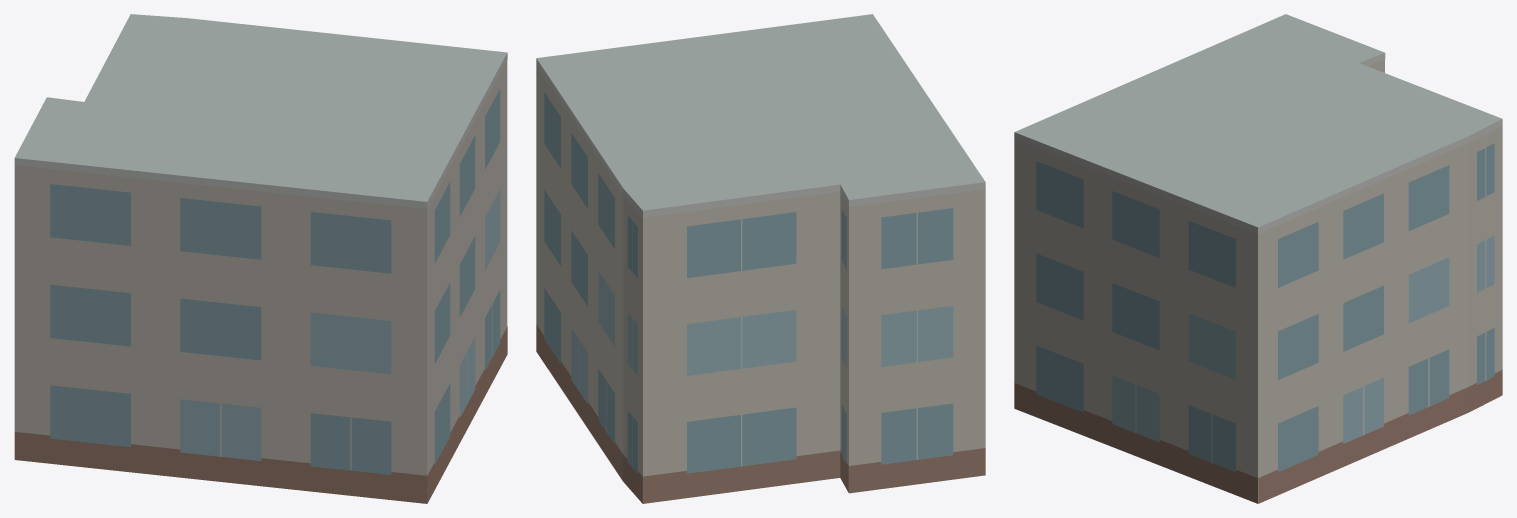
File: survey-upis-32862279.glb
The picture shows the model from 3 angles, left to right: view 1: azimuth 30°, elevation 25°; view 2: azimuth 150°, elevation 25°; view 3: azimuth 270°, elevation 25°; orthographic projection. The views are drawn at different scales.
Parts seen in each view (by area): view 1: survey-upis-32862279.tmp; view 2: survey-upis-32862279.tmp; view 3: survey-upis-32862279.tmp.
Boxes of the visible parts, x1=… form: survey-upis-32862279.tmp: x1=14, y1=14, x2=507, y2=503; survey-upis-32862279.tmp: x1=536, y1=14, x2=985, y2=503; survey-upis-32862279.tmp: x1=1014, y1=14, x2=1502, y2=503.
Bounding box in the file's own units: 16.9 × 10.2 × 16.34.
